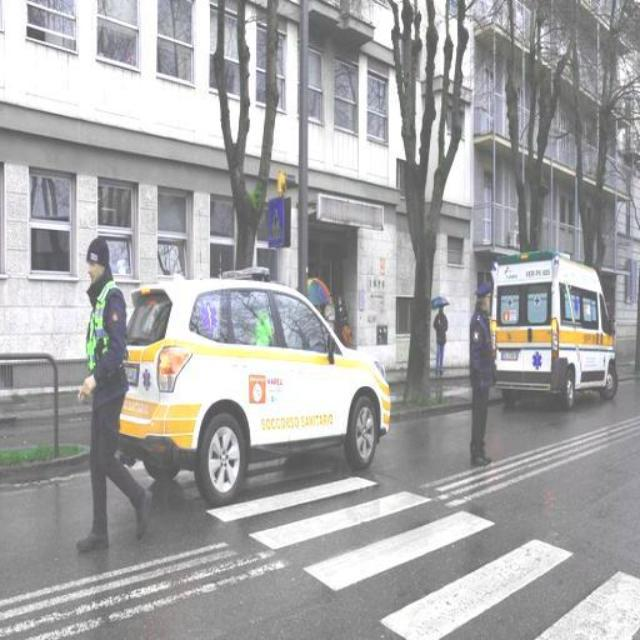sidewalk: (207, 475, 639, 639)
